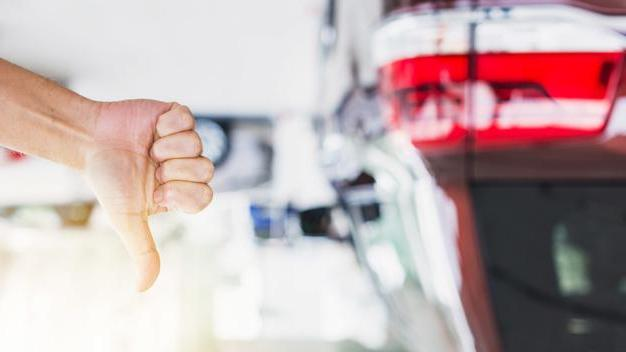thumbsdown: (121, 99, 214, 293)
